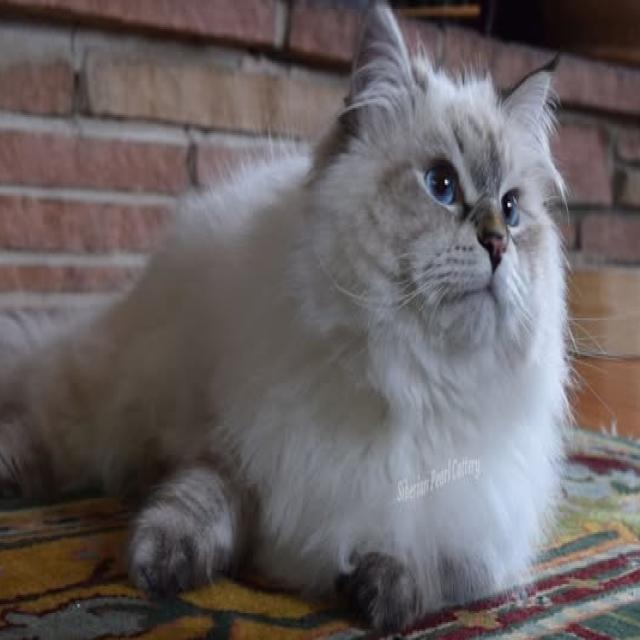Neva Masquerade: (0, 0, 578, 640)
